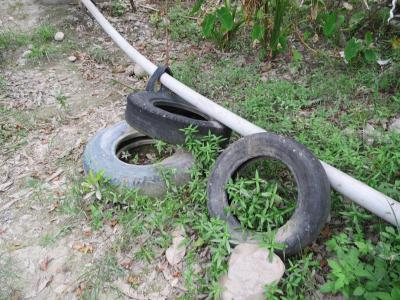tire: (205, 131, 334, 258), (81, 119, 205, 202), (124, 89, 232, 147)
